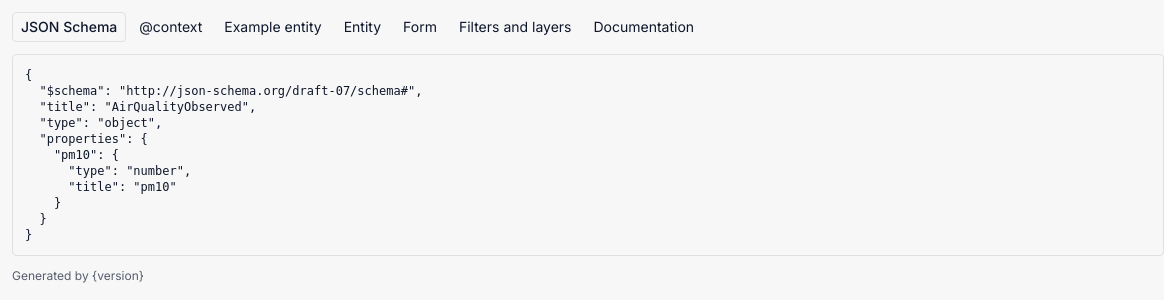
Test: LinkML preview panel › says nothing was generated when the artifact set carries no documentation
Expected: the text "AirQualityObserved" is shown, [25, 68, 422, 242]
Click the tab "Documentation" at [644, 27], box [584, 12, 703, 42]
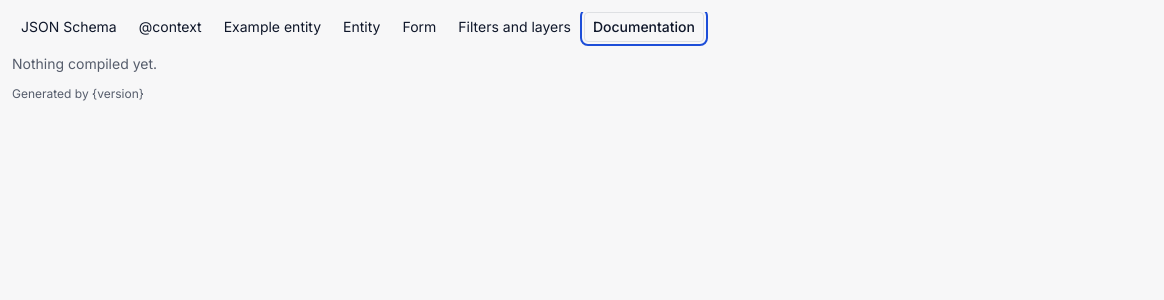
Expected: the text "Nothing compiled yet." is shown, [12, 55, 157, 72]
